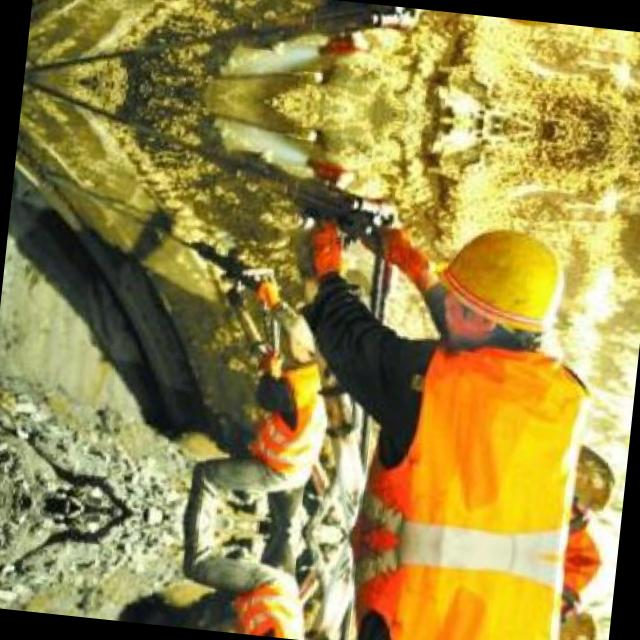helmet: (422, 208, 576, 361)
